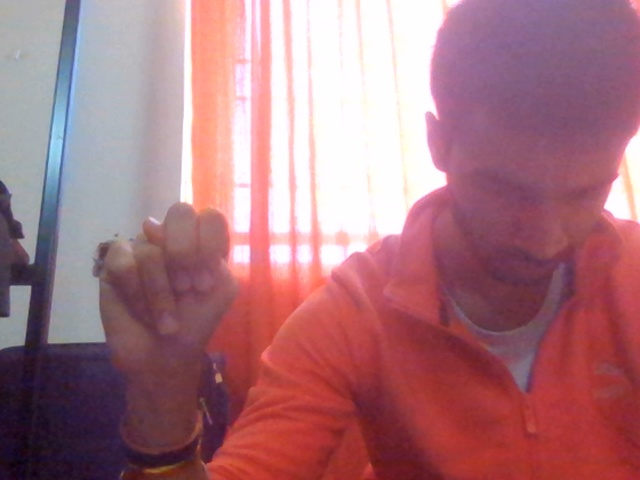N: (62, 170, 287, 431)
